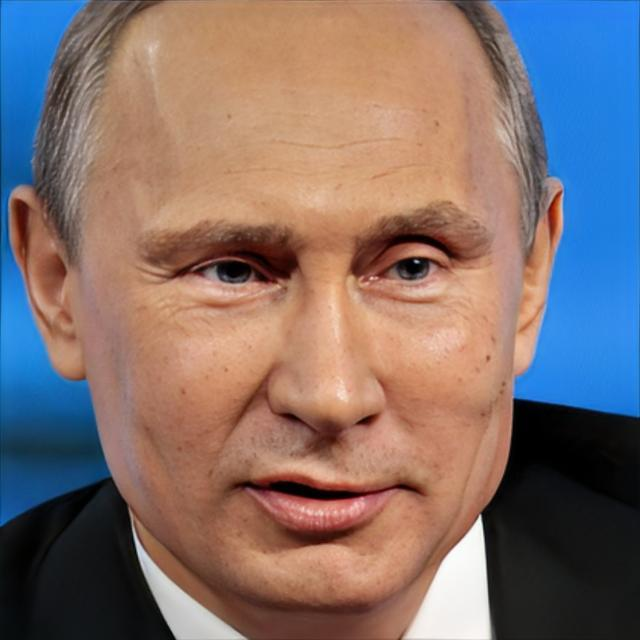content: (80, 0, 518, 613)
